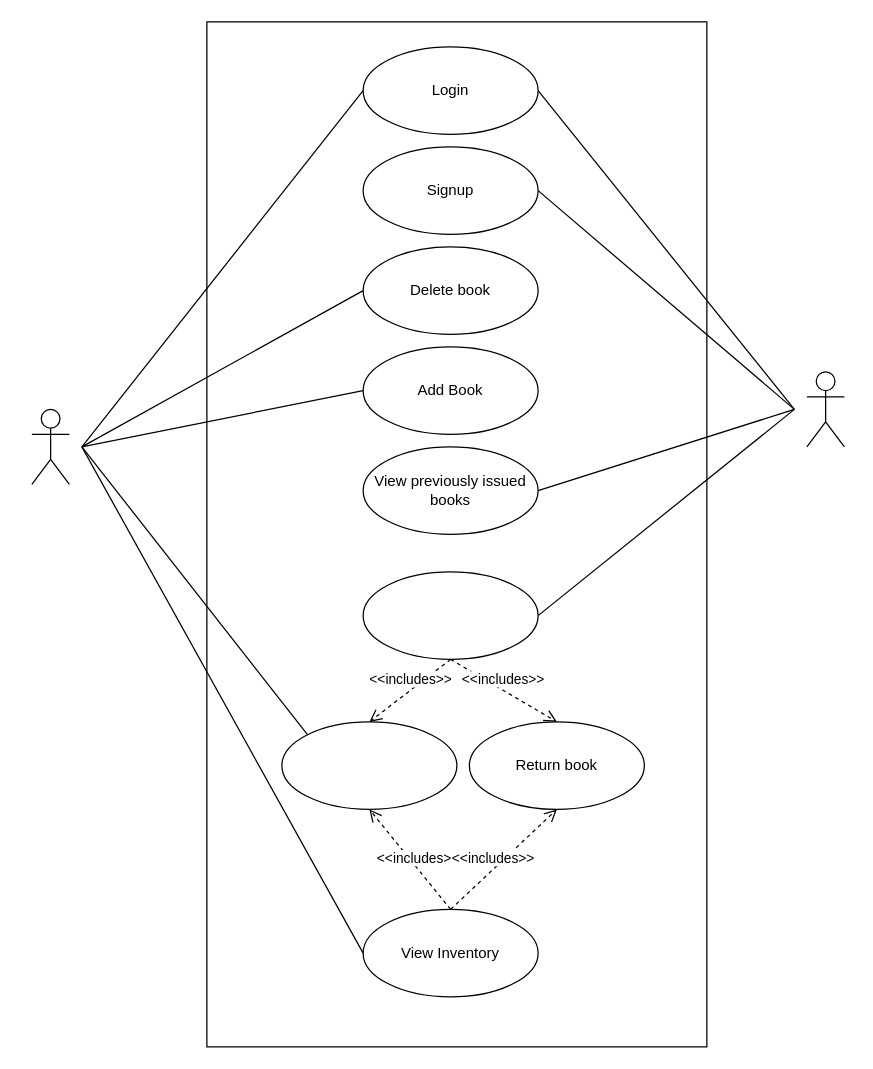
This 873x1069 diagram has some shape labels left out. The shapes that lost their labels are listed below. From the top down, each one's centre as x and y in pixels, then its label:
At [825,409]: "Student".
At [50,446]: "Librarian".
At [450,615]: "View available books".
At [369,765]: "Issue book".
